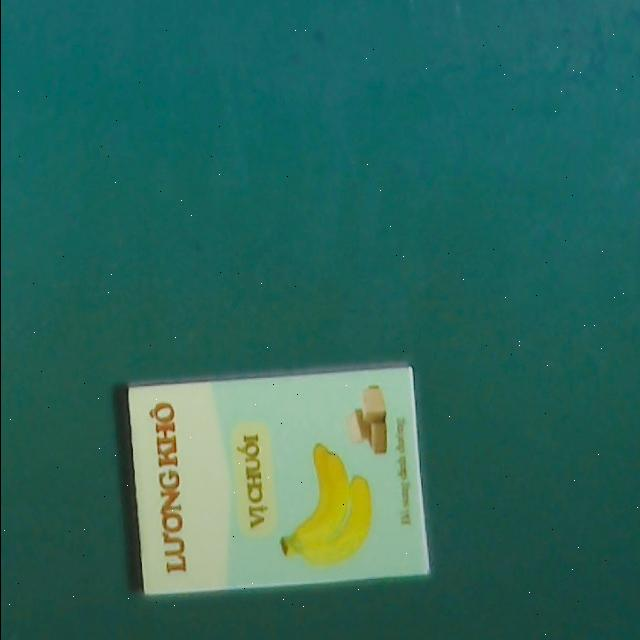chuoi: (125, 363, 426, 597)
